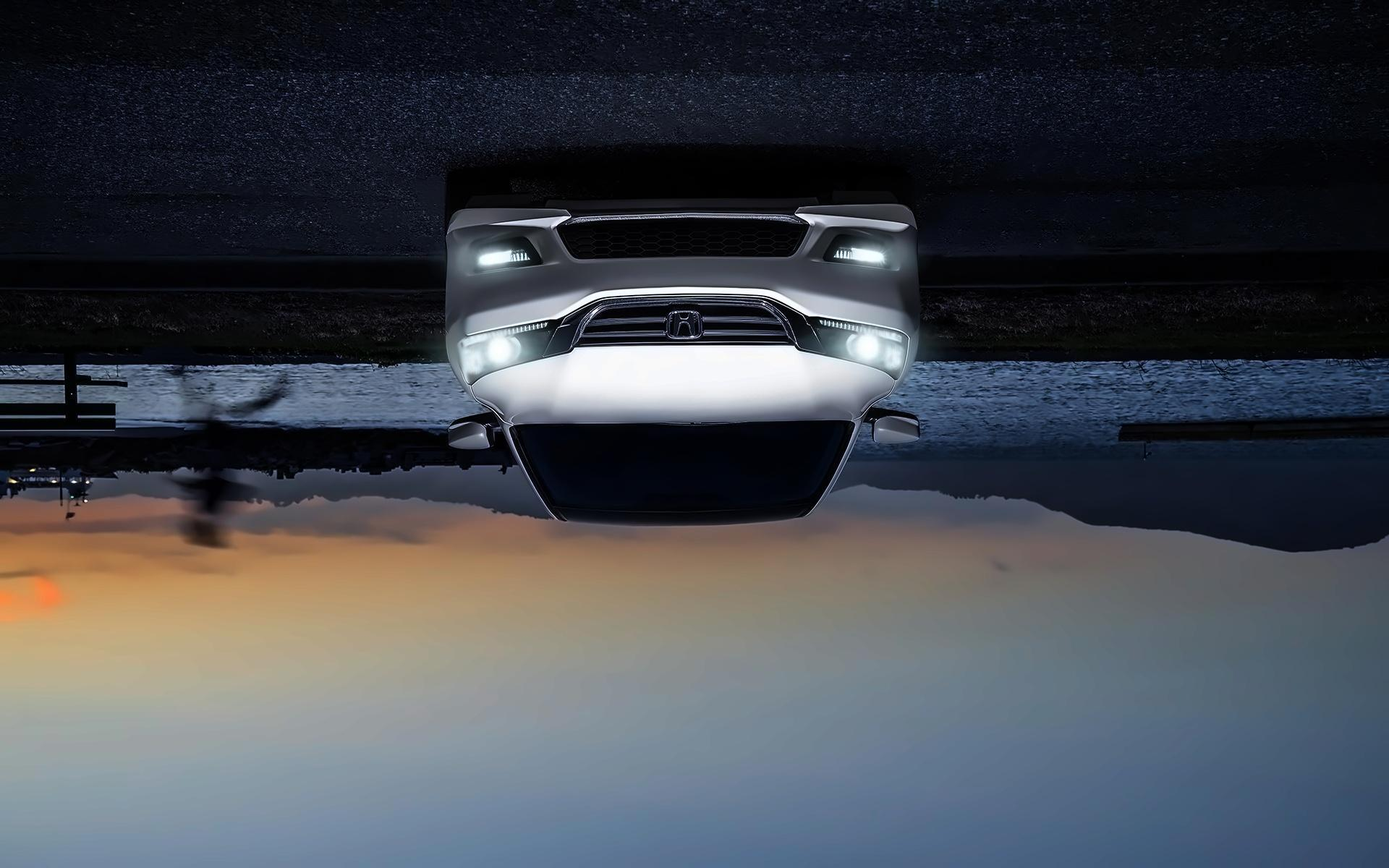Car hood: (470, 336, 895, 431)
Front bumper: (439, 187, 917, 290)
Headlight - -L-: (445, 316, 554, 392)
Headlight - -R-: (794, 317, 910, 385)
Side mirror - -L-: (442, 404, 520, 471)
Side mirror - -R-: (854, 401, 926, 453)
